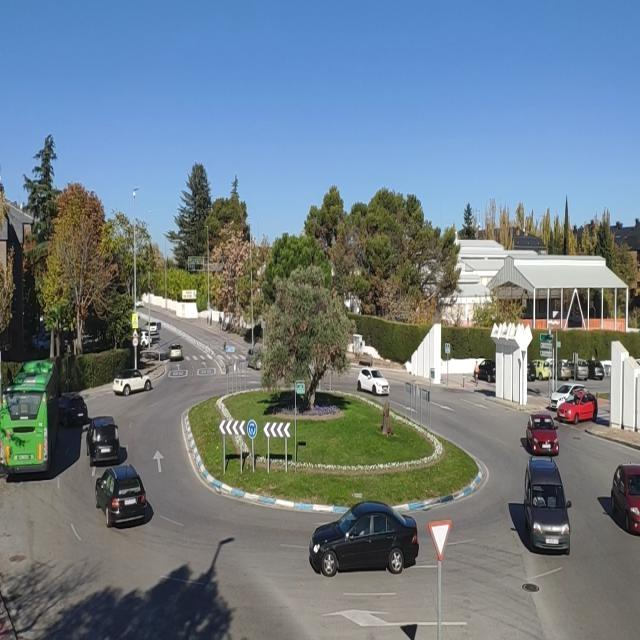Bus: (0, 358, 61, 477)
Car: (310, 498, 420, 577), (522, 459, 572, 552), (95, 464, 149, 528), (609, 465, 640, 536), (86, 416, 120, 465), (554, 389, 598, 423), (525, 414, 560, 455), (113, 369, 153, 396), (57, 393, 88, 426), (356, 368, 389, 396), (527, 359, 553, 381), (564, 358, 588, 381), (474, 359, 496, 382), (585, 360, 605, 380), (247, 347, 263, 369), (32, 334, 50, 352), (169, 344, 183, 362), (138, 330, 152, 348), (144, 321, 160, 335)
